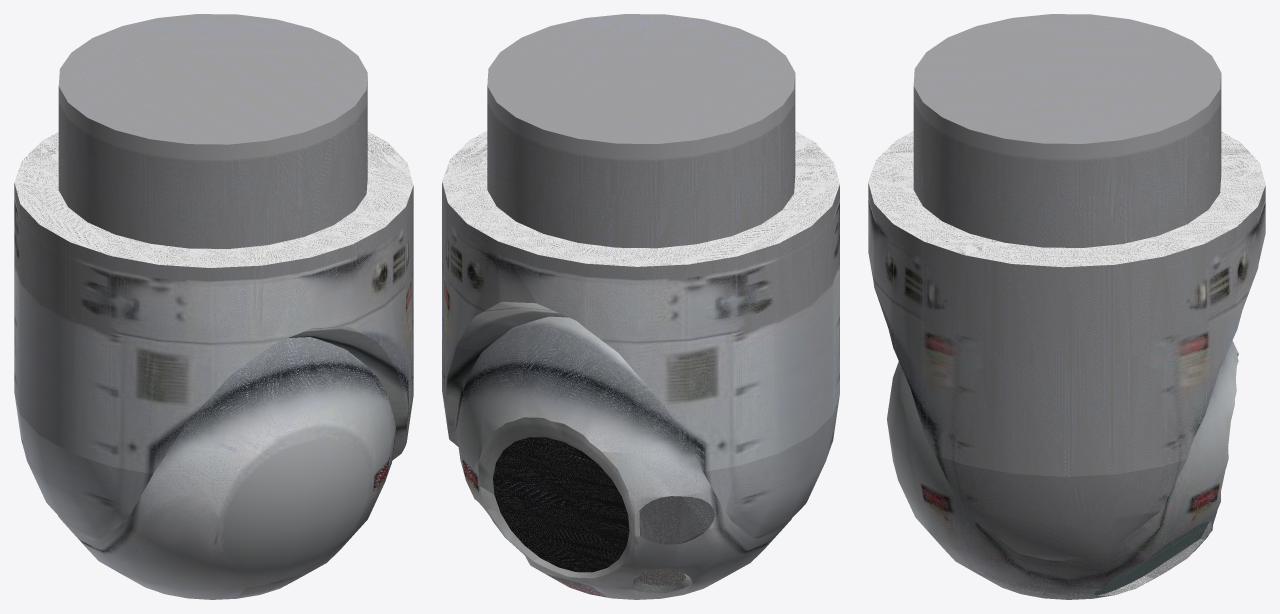
File: flir_optical_turret.dae
The picture shows the model from 3 angles, left to right: view 1: azimuth 30°, elevation 25°; view 2: azimuth 150°, elevation 25°; view 3: azimuth 270°, elevation 25°; orthographic projection.
Parts seen in each view (by area): view 1: group_1 (×3), group_2; view 2: group_1 (×3), group_2 (×3); view 3: group_1 (×2), group_2.
Part boxes in pixels (x1,y1,x2,y2): group_1 (×3): (14,14,413,540); group_2: (58,337,395,599); group_1 (×3): (442,14,839,538); group_2 (×3): (455,316,791,599); group_1 (×2): (868,14,1265,560); group_2: (887,341,1238,599).
Size of the model in its own units: 17.2 by 17.2 by 23.95.
3 materials, 1 textured.
